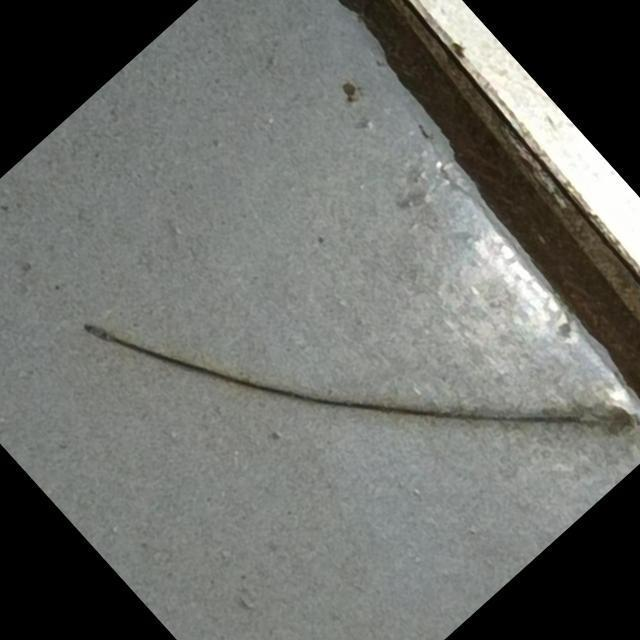defect: (73, 316, 637, 438)
